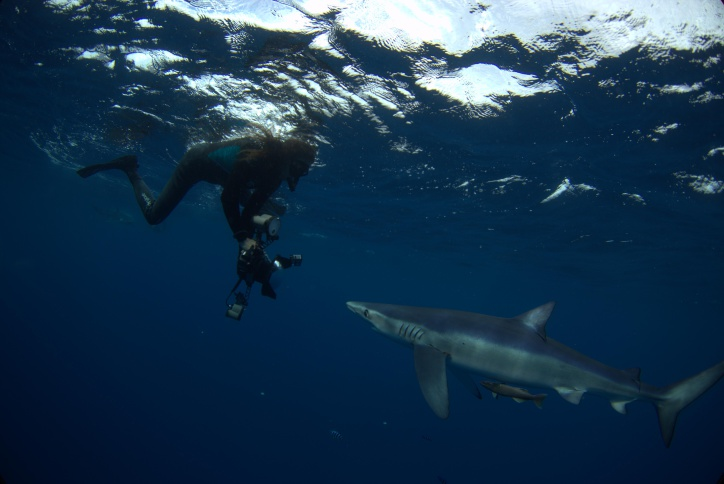Azul: (328, 262, 724, 451)
